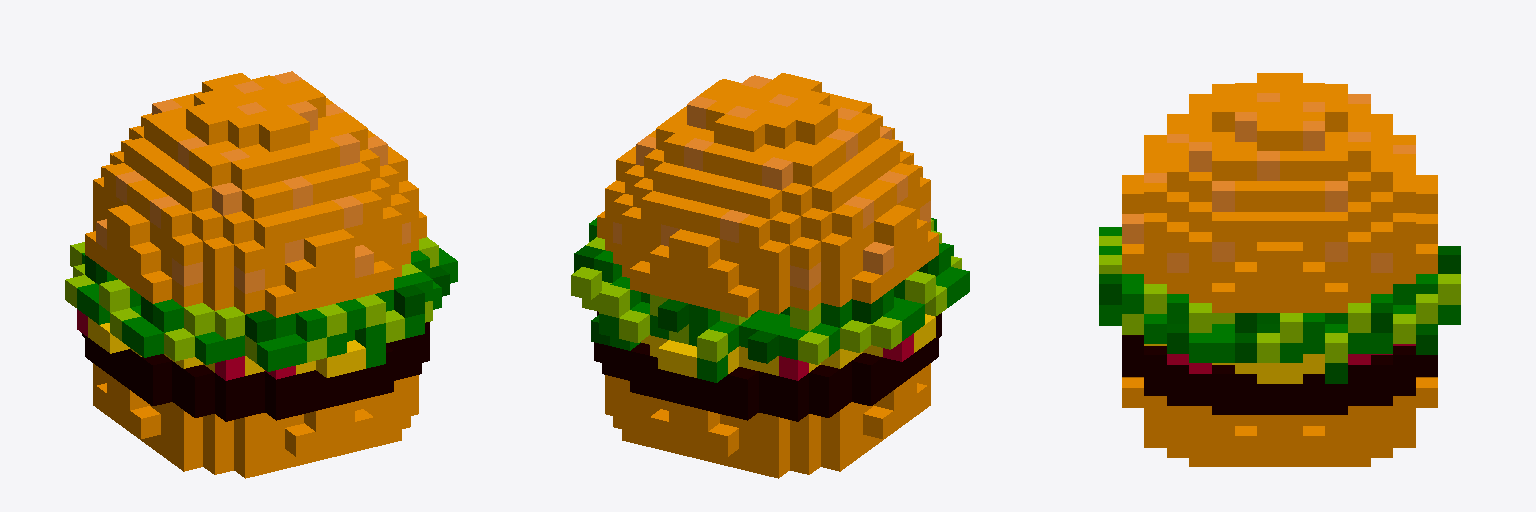
File: burger.obj
3 renders of one model, left to right at view 1: azimuth 30°, elevation 25°; view 2: azimuth 150°, elevation 25°; view 3: azimuth 270°, elevation 25°, orthographic.
Visible parts, largest first — view 1: burger; view 2: burger; view 3: burger.
Part boxes in pixels (x1,y1,x2,y2): burger: (65,71,457,478); burger: (571,73,969,478); burger: (1099,73,1460,466).
Size of the model in its own units: 1.6 by 1.5 by 1.6.